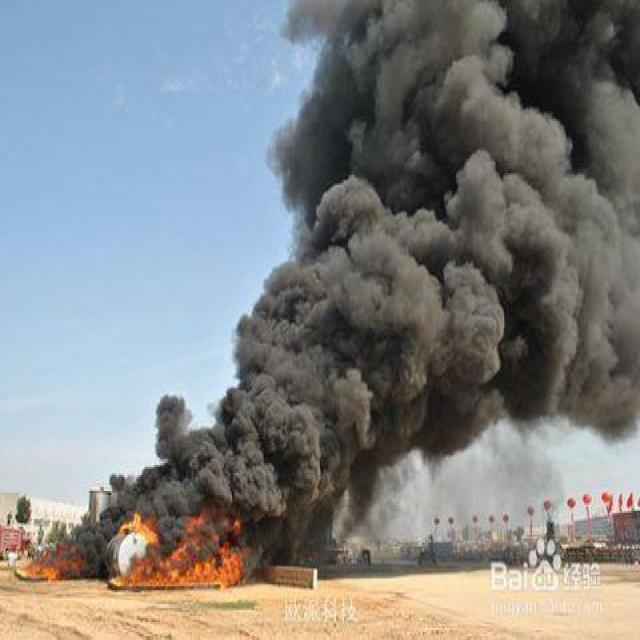fire: (110, 505, 250, 586), (22, 540, 82, 578)
smoke: (88, 0, 639, 521)
